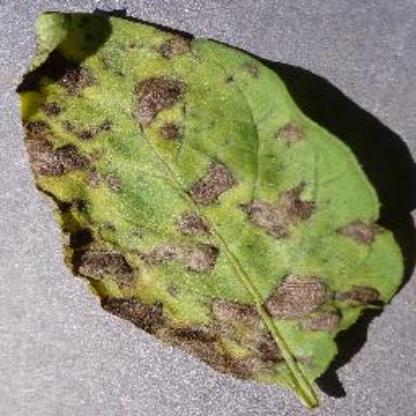Early-Blight: (16, 7, 408, 408)
